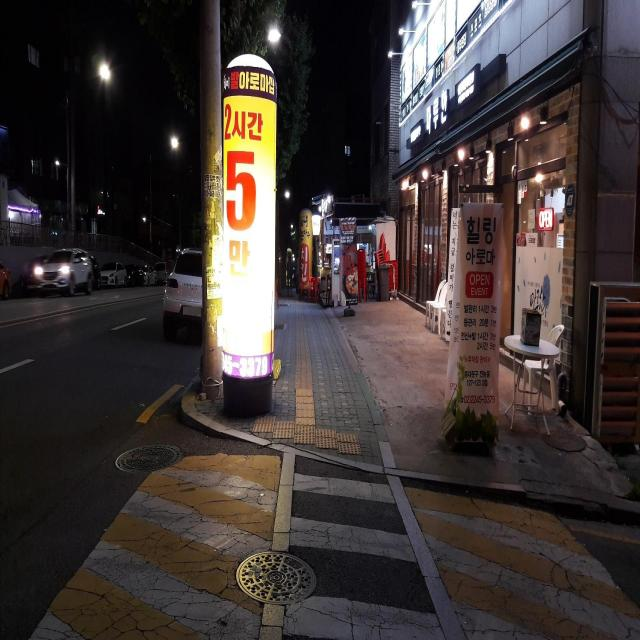횡단보도: (281, 469, 448, 640)
